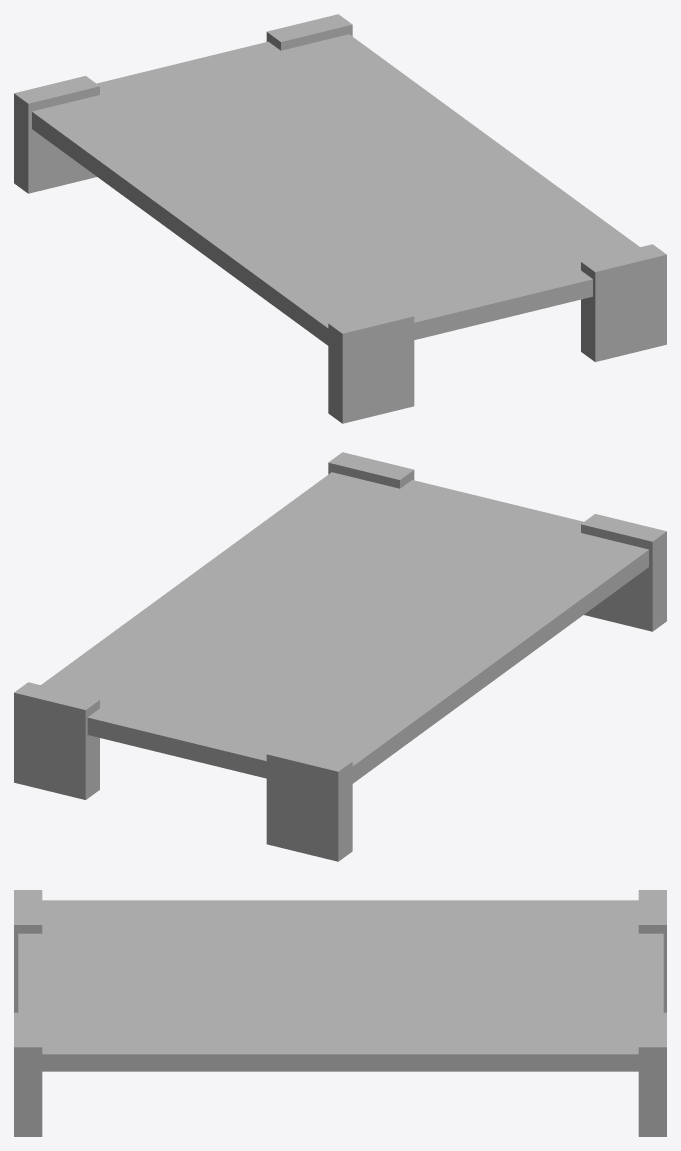
Rendered from duong cut.fbx.
3 views of the same model, one above another, from view 1: azimuth 30°, elevation 25°; view 2: azimuth 150°, elevation 25°; view 3: azimuth 270°, elevation 25° (orthographic).
Visible parts, largest first — view 1: duongcut, goa, gob; view 2: duongcut, gob, goa; view 3: duongcut, goa, gob.
Boxes of the visible parts, box(x1,y1,x2,y2) form: duongcut: box(32, 34, 639, 345); goa: box(328, 244, 666, 423); gob: box(14, 14, 352, 193); duongcut: box(41, 472, 648, 783); gob: box(14, 682, 352, 861); goa: box(328, 452, 666, 631); duongcut: box(18, 900, 663, 1071); goa: box(14, 890, 42, 1136); gob: box(638, 890, 666, 1136).
Bounding box in the file's own units: 231 × 61.18 × 405.
